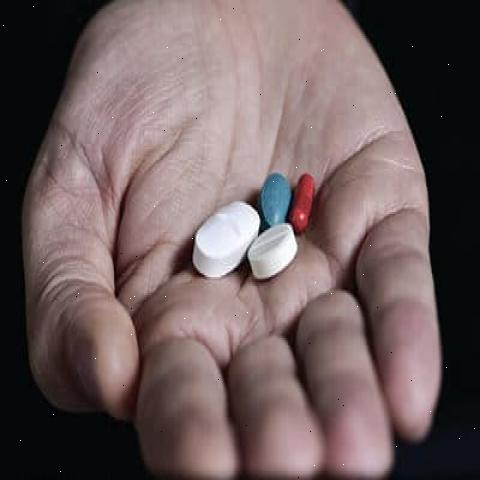Pill: (184, 184, 260, 290), (244, 215, 302, 298)
